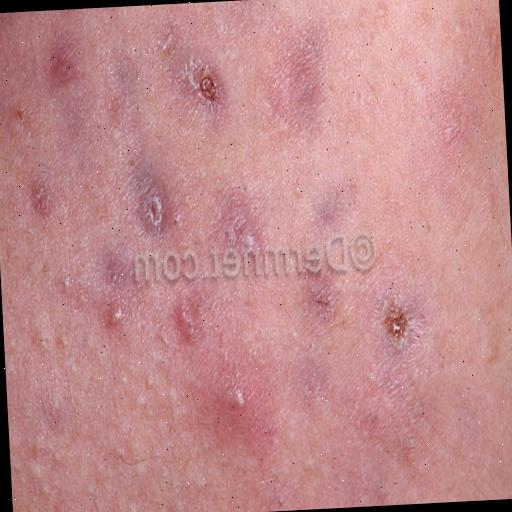Skin_Lesion: (256, 20, 332, 151), (40, 48, 94, 159), (210, 361, 276, 441), (366, 290, 426, 363), (132, 160, 176, 244), (180, 53, 234, 120), (168, 273, 208, 355), (95, 259, 131, 333), (24, 154, 56, 234), (301, 282, 339, 326), (313, 184, 347, 228)
